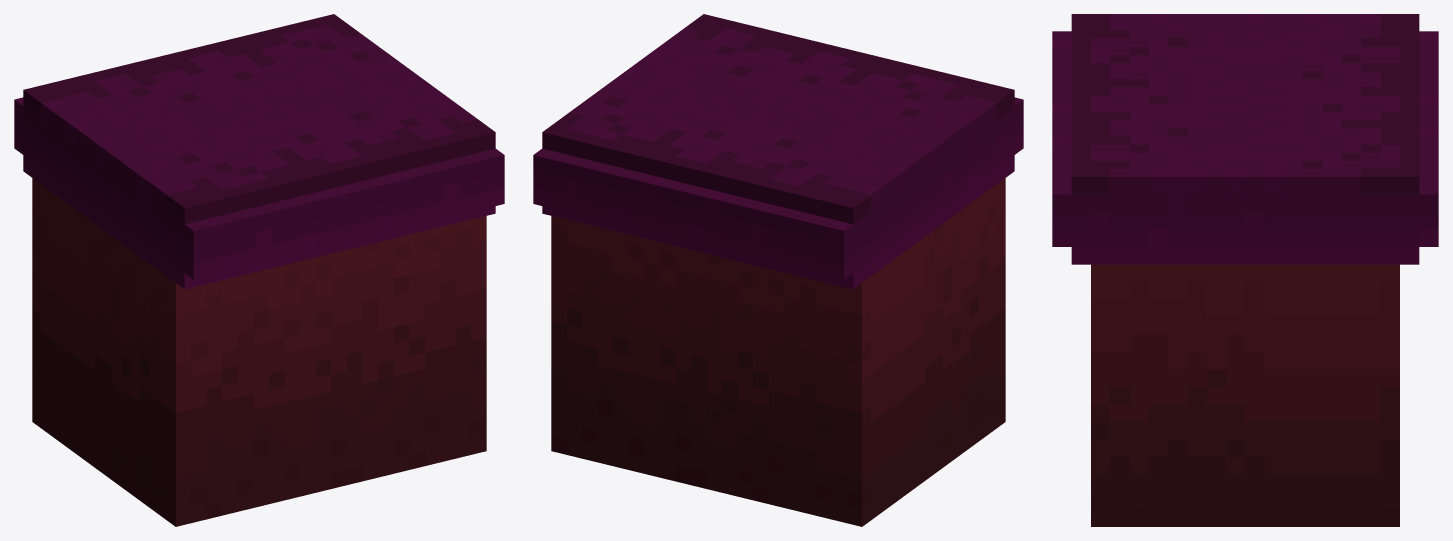
File: full_top_middle.glb
3 renders of one model, left to right at view 1: azimuth 30°, elevation 25°; view 2: azimuth 150°, elevation 25°; view 3: azimuth 270°, elevation 25°, orthographic. The views are drawn at different scales.
Parts seen in each view (by area): view 1: full_top_middle; view 2: full_top_middle; view 3: full_top_middle.
Boxes of the visible parts, bbox=[...] form: full_top_middle: bbox=[14, 14, 504, 526]; full_top_middle: bbox=[533, 14, 1023, 526]; full_top_middle: bbox=[1052, 14, 1438, 526].
Size of the model in its own units: 2 by 2 by 2.
Materials: 1 (1 with a texture image).
